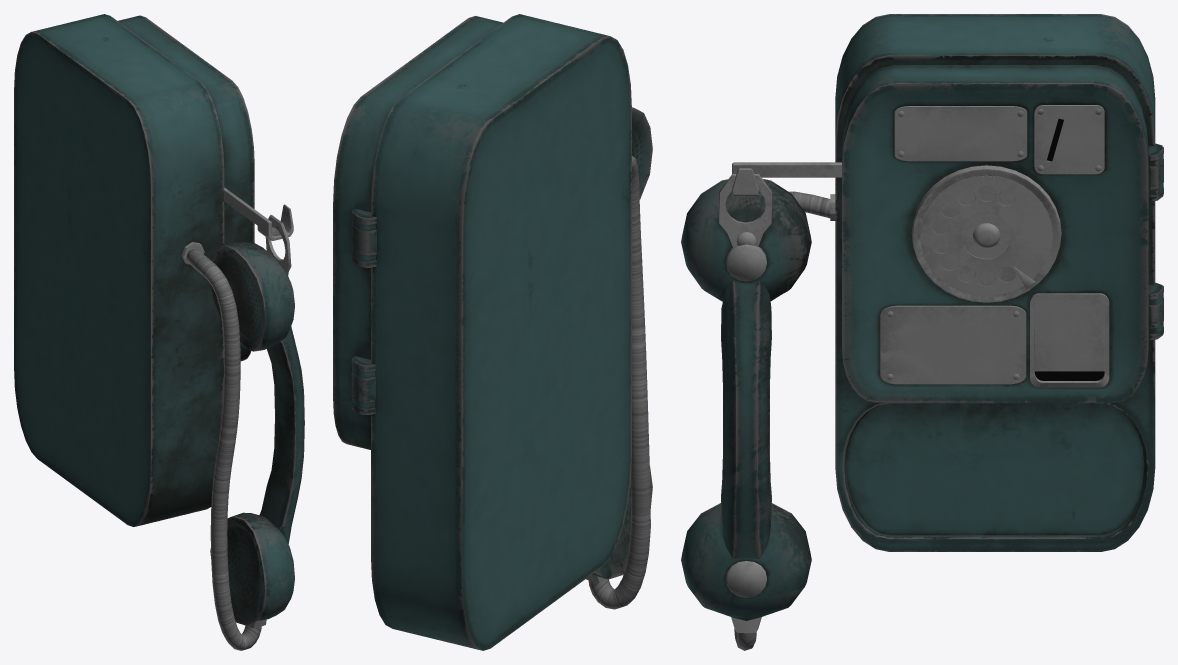
File: old_soviet_taxophone.glb
3 renders of one model, left to right at view 1: azimuth 30°, elevation 25°; view 2: azimuth 150°, elevation 25°; view 3: azimuth 270°, elevation 25°, orthographic. The views are drawn at different scales.
Parts seen in each view (by area): view 1: Cube.001, Circle.005, object 2, Cube.006, Plane.005; view 2: Cube.001, object 2, Circle.005; view 3: Cube.001, Circle.005, Circle, Cube.004, Cube.005, Cube.002, Cube.003, Cube.006, Plane.005, Circle.011, Circle.010, object 2.
Part boxes in pixels (box(x1,y1,x2,y2)): Cube.001: box(14, 14, 254, 526); Circle.005: box(210, 242, 304, 625); object 2: box(186, 248, 261, 650); Cube.006: box(224, 187, 293, 240); Plane.005: box(265, 215, 291, 275); Cube.001: box(333, 14, 631, 650); object 2: box(588, 156, 650, 609); Circle.005: box(592, 107, 652, 579); Cube.001: box(835, 14, 1163, 551); Circle.005: box(681, 178, 811, 620); Circle: box(911, 165, 1061, 302); Cube.004: box(880, 305, 1026, 384); Cube.005: box(1030, 293, 1109, 387); Cube.002: box(894, 106, 1027, 161); Cube.003: box(1034, 105, 1104, 174); Cube.006: box(732, 162, 841, 197); Plane.005: box(719, 174, 771, 247); Circle.011: box(726, 244, 766, 281); Circle.010: box(726, 561, 766, 597); object 2: box(734, 191, 830, 650).
Size of the model in its own units: 0.1238 by 0.5481 by 0.3971.
Materials: 1 (1 with a texture image).
